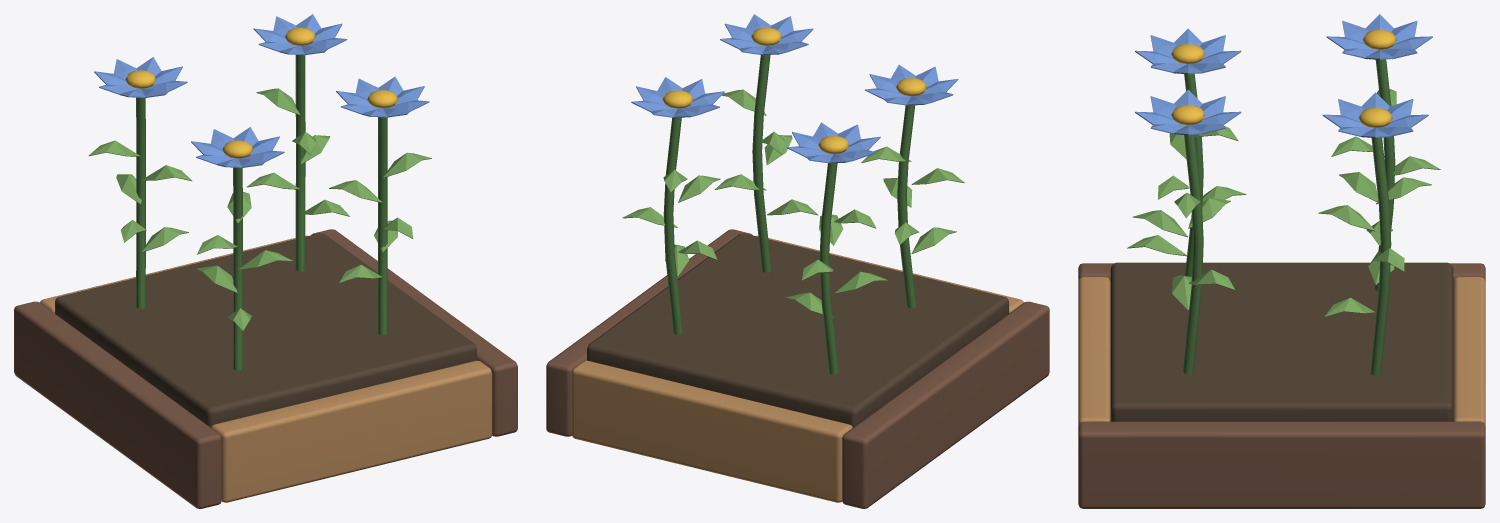
File: garden.flower.cornflower-wet.glb
3 views of the same model, side by side, from view 1: azimuth 30°, elevation 25°; view 2: azimuth 150°, elevation 25°; view 3: azimuth 270°, elevation 25° (orthographic). The views are drawn at different scales.
Parts seen in each view (by area): view 1: Cedar raised bed rail; view 2: Cedar raised bed rail; view 3: Cedar raised bed rail.
Part boxes in pixels (<box>): Cedar raised bed rail: <box>14,14,517,508</box>; Cedar raised bed rail: <box>546,14,1049,508</box>; Cedar raised bed rail: <box>1078,14,1485,508</box>.
Size of the model in its own units: 1 by 0.9658 by 1.
